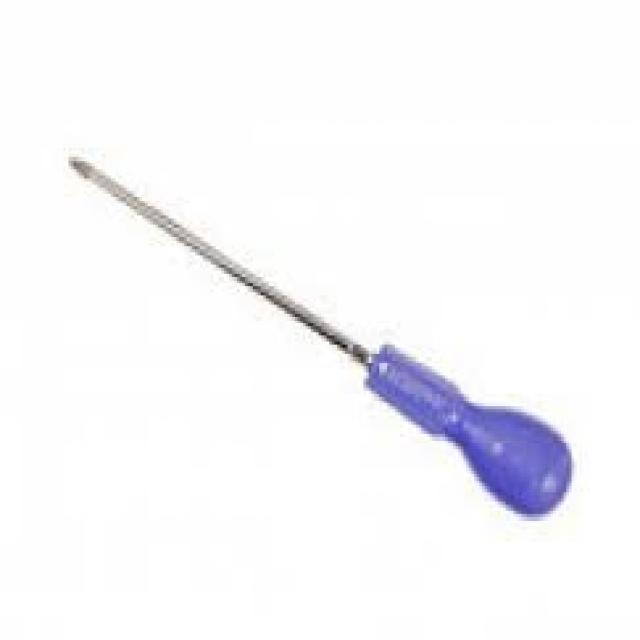screwdriver: (66, 151, 577, 520)
